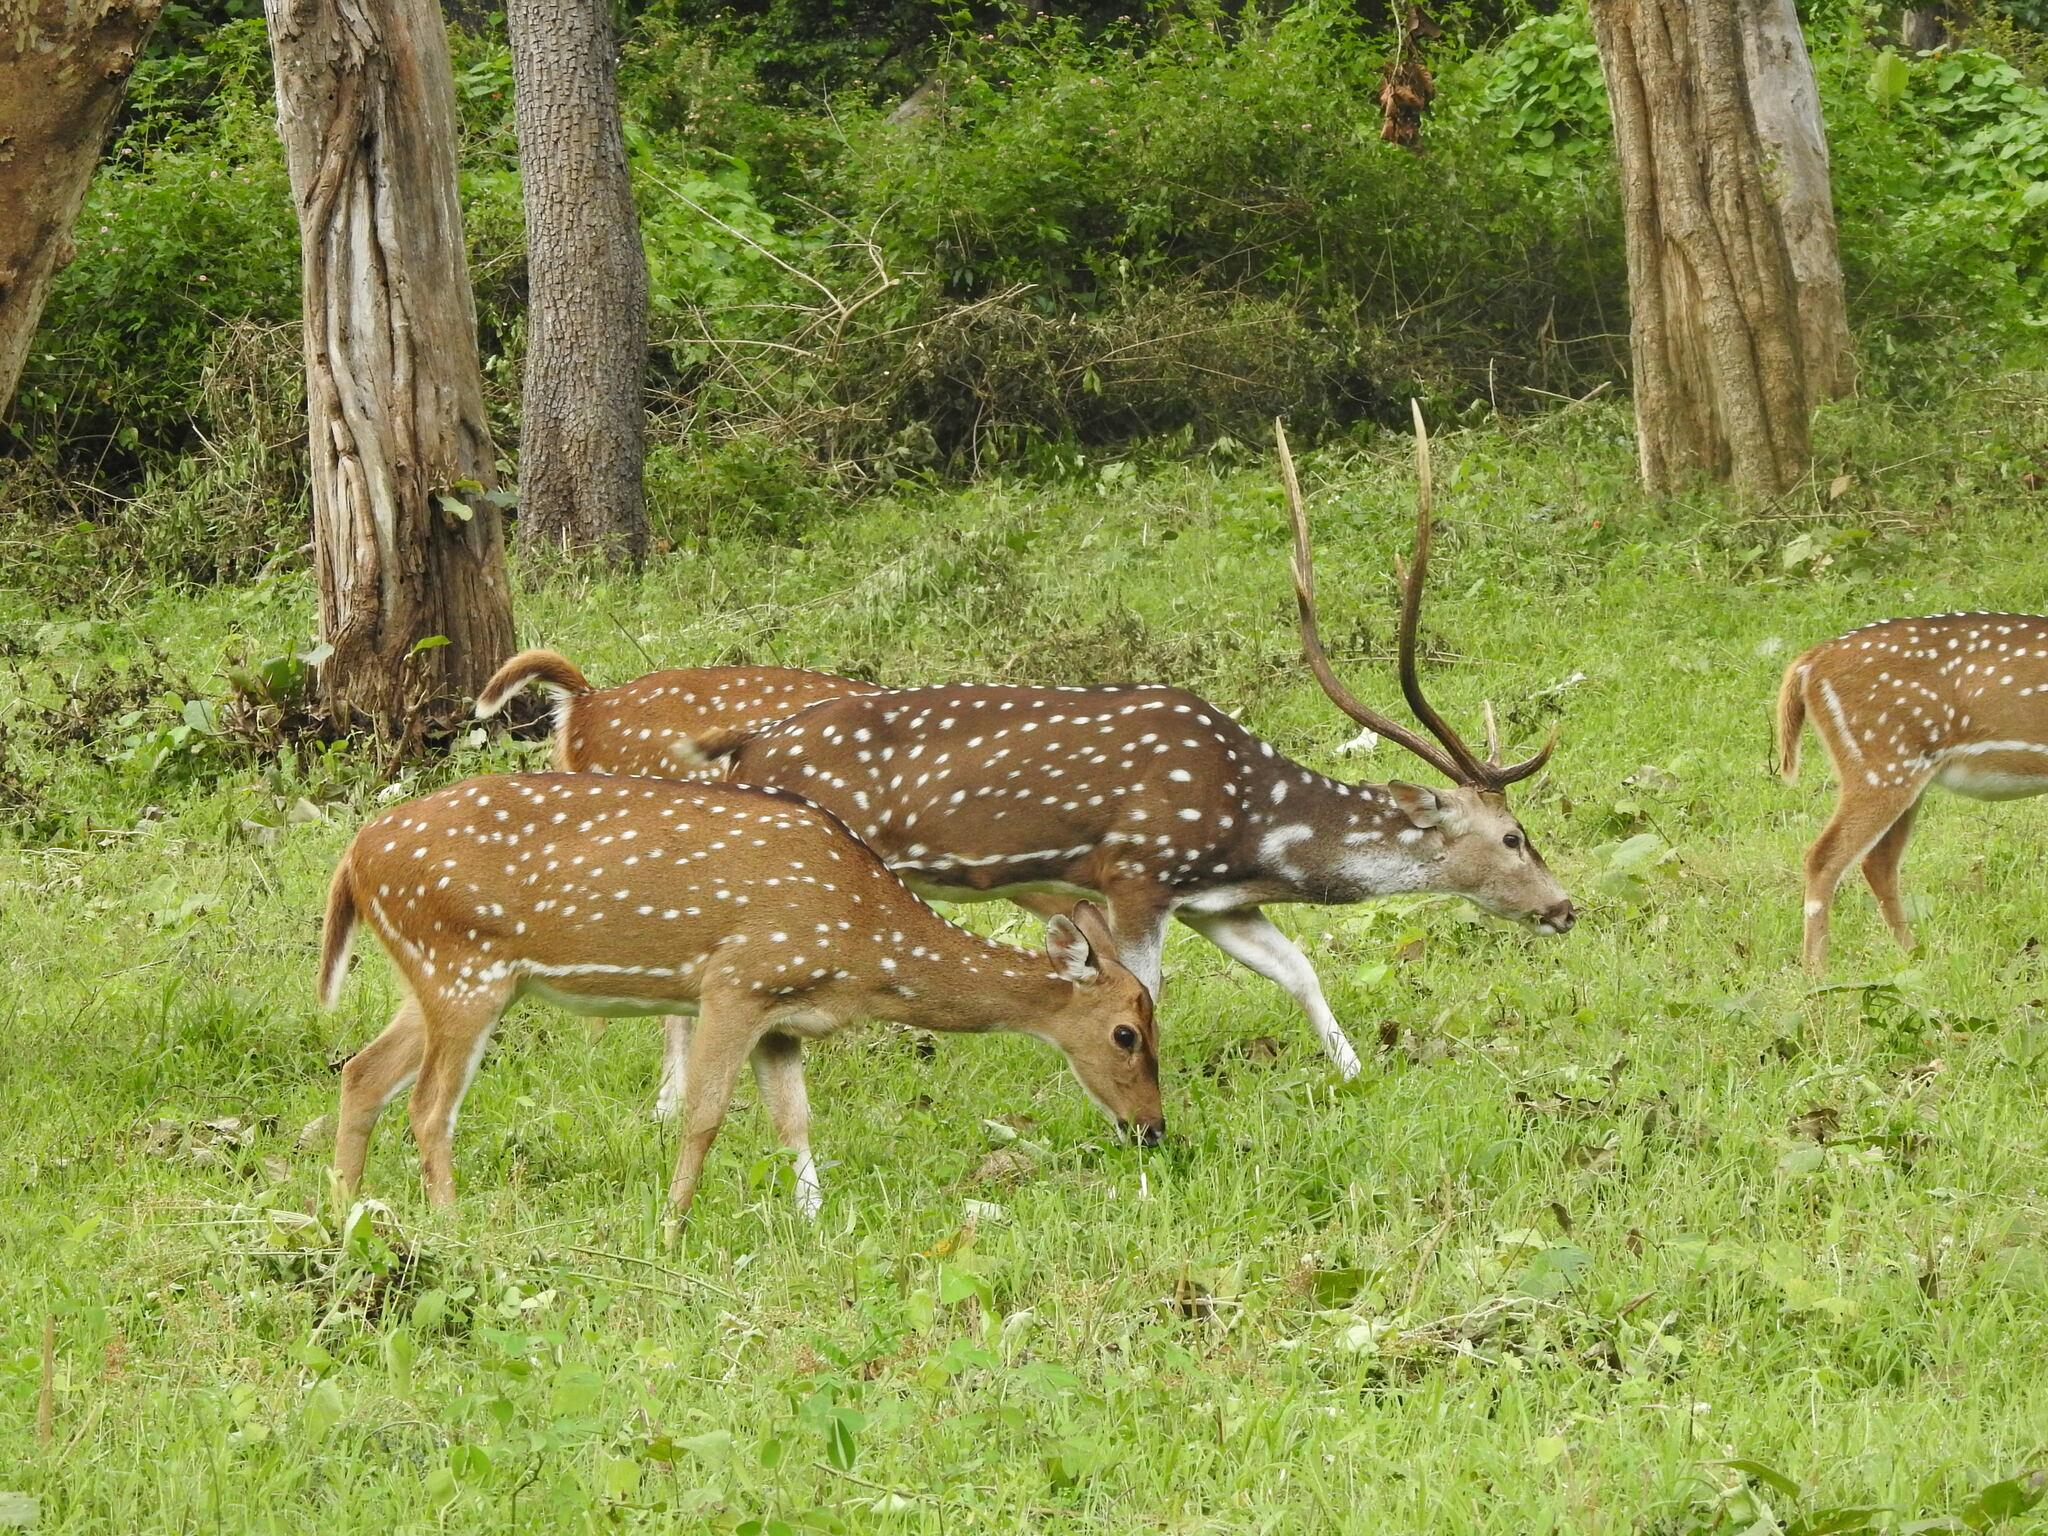Deer: (703, 407, 1574, 1078), (319, 773, 1164, 1234), (1775, 613, 2046, 970)
